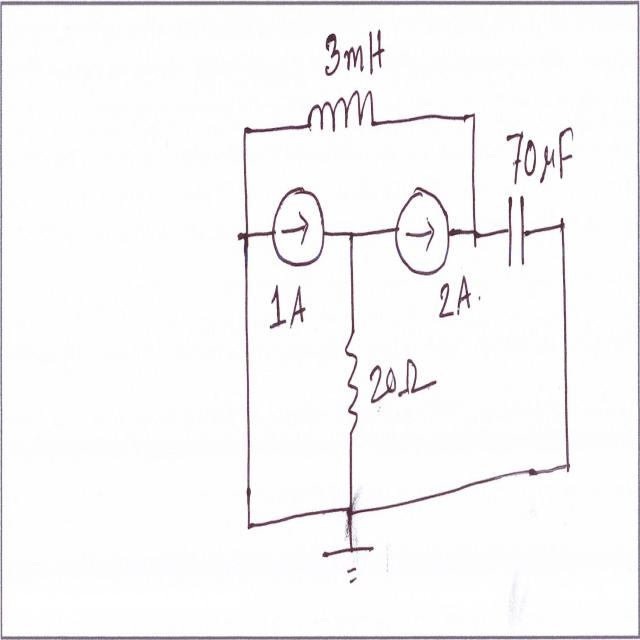capacitor: (505, 190, 529, 270)
current_source: (392, 189, 454, 283), (267, 182, 330, 271)
ground: (320, 531, 376, 587)
inductor: (301, 78, 379, 144)
resistor: (340, 322, 364, 448)
